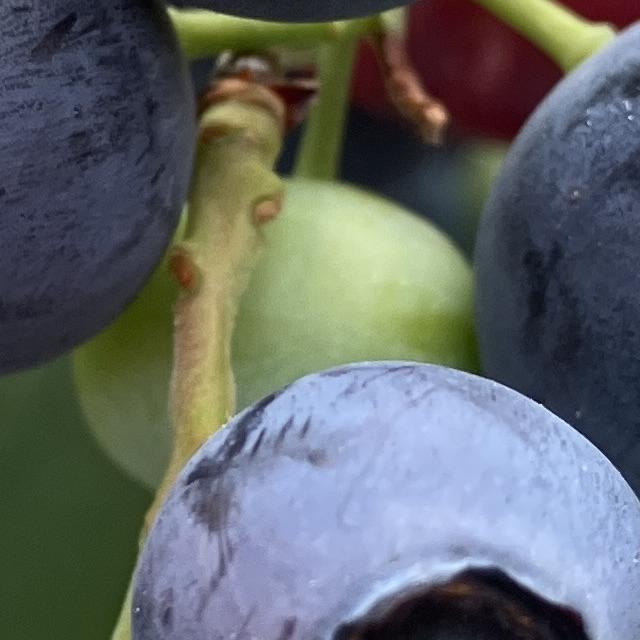Blueberries: (124, 349, 640, 640)
